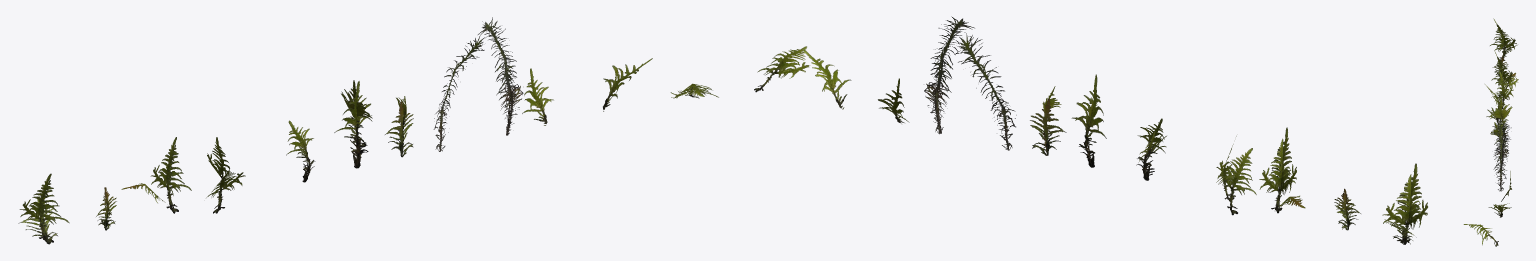
The model's file is moss_01.light.glb.
The picture shows the model from 3 angles, left to right: view 1: azimuth 30°, elevation 25°; view 2: azimuth 150°, elevation 25°; view 3: azimuth 270°, elevation 25°; orthographic projection. The views are drawn at different scales.
Parts seen in each view (by area): view 1: moss_01_tall_b_LOD0, moss_01_a_LOD0, moss_01_f_LOD0, moss_01_c_LOD0, moss_01_tall_a_LOD0, moss_01_d_LOD0, moss_01_g_LOD0, moss_01_e_LOD0, moss_01_h_LOD0, moss_01_i_LOD0, moss_01_b_LOD0; view 2: moss_01_a_LOD0, moss_01_tall_b_LOD0, moss_01_c_LOD0, moss_01_tall_a_LOD0, moss_01_d_LOD0, moss_01_f_LOD0, moss_01_g_LOD0, moss_01_j_LOD0, moss_01_e_LOD0, moss_01_i_LOD0, moss_01_b_LOD0, moss_01_h_LOD0; view 3: moss_01_tall_b_LOD0, moss_01_a_LOD0, moss_01_c_LOD0, moss_01_d_LOD0, moss_01_f_LOD0, moss_01_tall_a_LOD0, moss_01_j_LOD0, moss_01_g_LOD0, moss_01_i_LOD0, moss_01_e_LOD0, moss_01_b_LOD0, moss_01_h_LOD0.
Boxes of the visible parts, left/top/right/bottom form: moss_01_tall_b_LOD0: left=478, top=17, right=523, bottom=135; moss_01_a_LOD0: left=18, top=173, right=69, bottom=244; moss_01_f_LOD0: left=334, top=80, right=372, bottom=168; moss_01_c_LOD0: left=121, top=137, right=191, bottom=213; moss_01_tall_a_LOD0: left=433, top=36, right=484, bottom=151; moss_01_d_LOD0: left=206, top=137, right=245, bottom=213; moss_01_g_LOD0: left=385, top=96, right=413, bottom=157; moss_01_e_LOD0: left=286, top=120, right=315, bottom=182; moss_01_h_LOD0: left=522, top=68, right=553, bottom=125; moss_01_i_LOD0: left=603, top=58, right=652, bottom=111; moss_01_b_LOD0: left=96, top=187, right=116, bottom=230; moss_01_a_LOD0: left=1382, top=163, right=1427, bottom=244; moss_01_tall_b_LOD0: left=924, top=16, right=974, bottom=134; moss_01_c_LOD0: left=1259, top=127, right=1305, bottom=213; moss_01_tall_a_LOD0: left=954, top=33, right=1016, bottom=150; moss_01_d_LOD0: left=1216, top=136, right=1256, bottom=215; moss_01_f_LOD0: left=1071, top=74, right=1106, bottom=167; moss_01_g_LOD0: left=1030, top=86, right=1066, bottom=155; moss_01_j_LOD0: left=754, top=46, right=809, bottom=92; moss_01_e_LOD0: left=1136, top=118, right=1166, bottom=180; moss_01_i_LOD0: left=802, top=48, right=851, bottom=109; moss_01_b_LOD0: left=1334, top=188, right=1360, bottom=230; moss_01_h_LOD0: left=878, top=78, right=909, bottom=123; moss_01_tall_b_LOD0: left=1491, top=118, right=1509, bottom=191; moss_01_a_LOD0: left=1490, top=18, right=1517, bottom=60; moss_01_c_LOD0: left=1491, top=51, right=1518, bottom=96; moss_01_d_LOD0: left=1485, top=70, right=1513, bottom=109; moss_01_f_LOD0: left=1489, top=97, right=1512, bottom=140; moss_01_tall_a_LOD0: left=1494, top=125, right=1511, bottom=168; moss_01_j_LOD0: left=1463, top=224, right=1498, bottom=246; moss_01_g_LOD0: left=1490, top=122, right=1506, bottom=159; moss_01_i_LOD0: left=1488, top=203, right=1511, bottom=217; moss_01_e_LOD0: left=1486, top=93, right=1508, bottom=129; moss_01_b_LOD0: left=1492, top=55, right=1508, bottom=75; moss_01_h_LOD0: left=1501, top=171, right=1511, bottom=201.
Size of the model in its own units: 2 by 0.3751 by 0.2734.
Materials: 1 (1 with a texture image).
